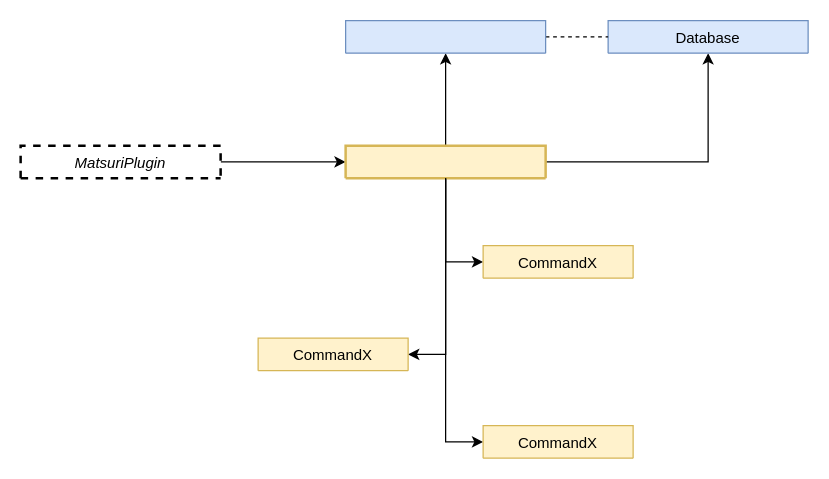
The diagram is 829 pixels wide and 479 high, and some of its shapes have lost their labels. Here are the shapes that lost their labels. From the top down, the centre of each, then its label:
point 445,36: SQLite
point 445,161: Calculator
